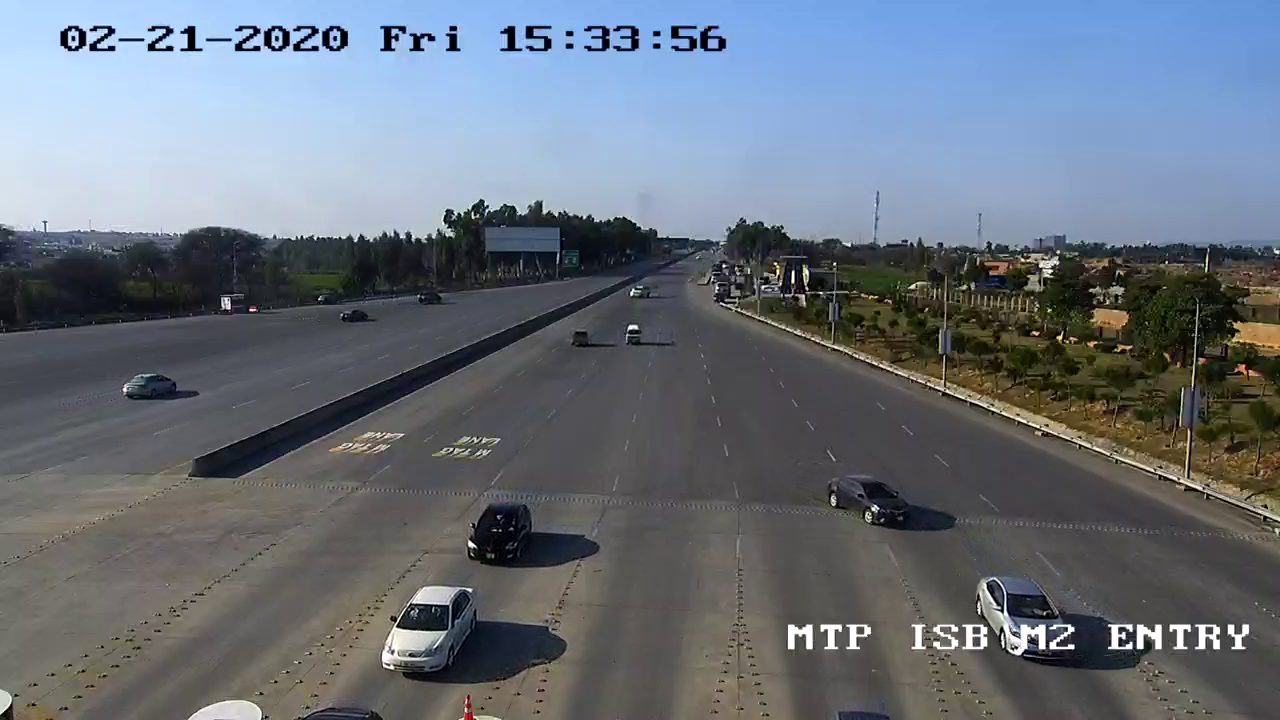f1: (372, 577, 495, 683), (819, 460, 929, 540), (454, 491, 554, 571)
